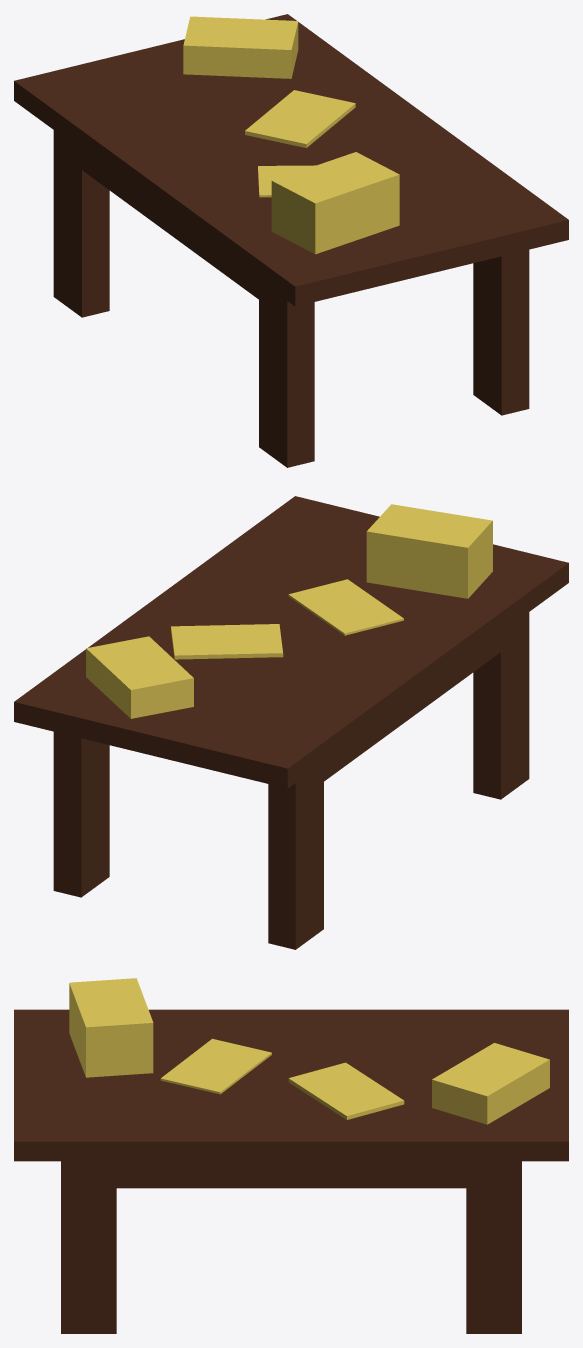
Rendered from mesa.glb.
The picture shows the model from 3 angles, top to bottom: view 1: azimuth 30°, elevation 25°; view 2: azimuth 150°, elevation 25°; view 3: azimuth 270°, elevation 25°; orthographic projection.
Visible parts, largest first — view 1: Mesa; view 2: Mesa; view 3: Mesa.
Boxes of the visible parts, bbox=[...] form: Mesa: bbox=[14, 14, 568, 467]; Mesa: bbox=[14, 496, 568, 949]; Mesa: bbox=[14, 978, 568, 1333].
Bounding box in the file's own units: 0.8013 × 0.7093 × 1.43.
